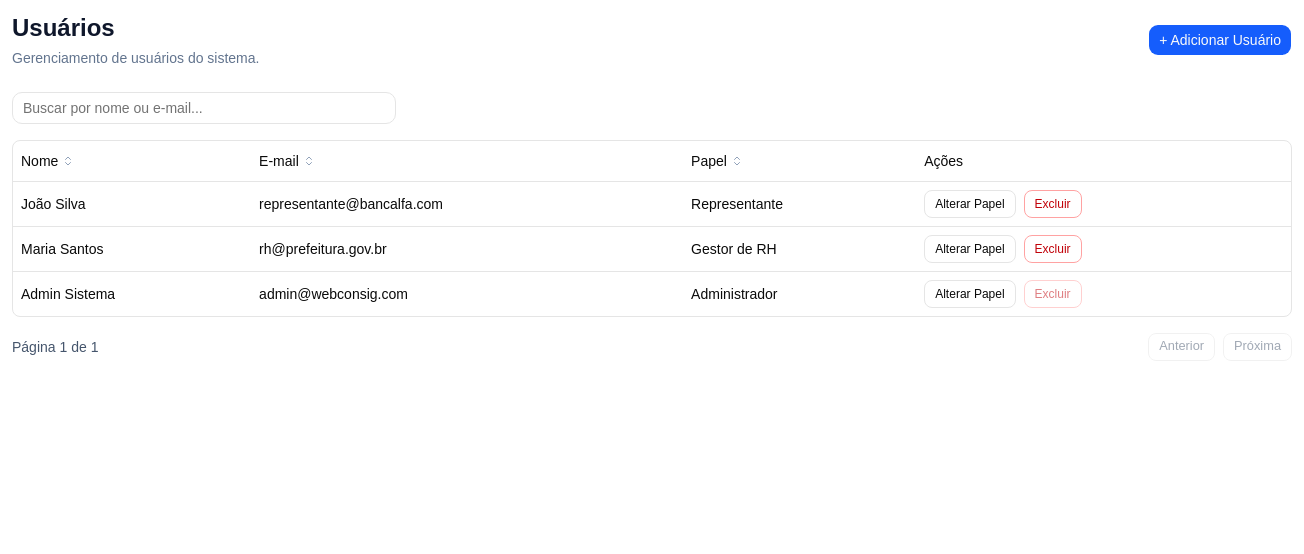
Scenario: UsersPage — add user › opens add form when Adicionar Usuário is clicked
Click the button "+ Adicionar Usuário" at (1220, 40), box [1148,24,1292,56]
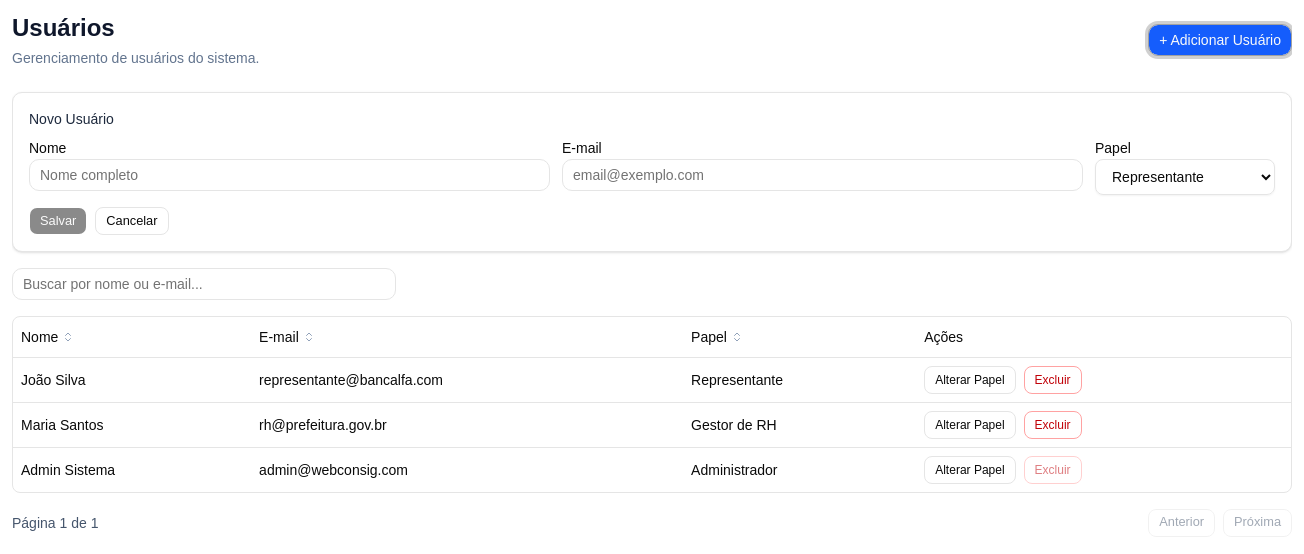
Expected: the field labelled "Nome" is shown, [29,159,550,191]
Expected: the field labelled "E-mail" is shown, [562,159,1083,191]
